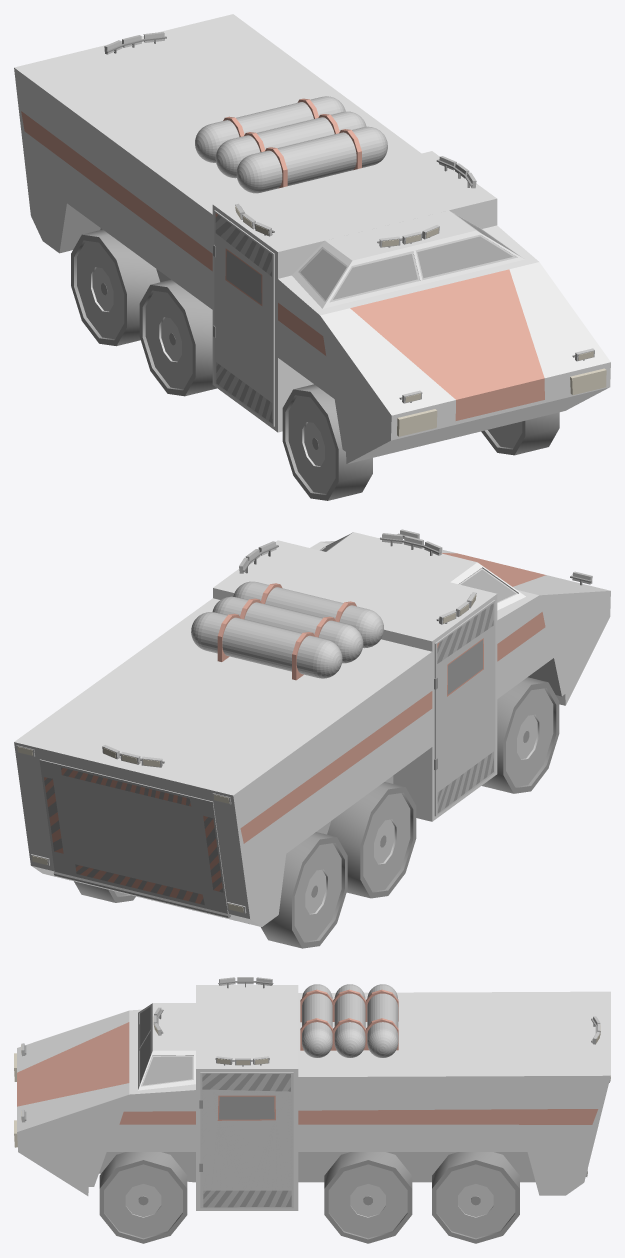
The model's file is kar.fbx.
3 views of the same model, one above another, from view 1: azimuth 30°, elevation 25°; view 2: azimuth 150°, elevation 25°; view 3: azimuth 270°, elevation 25° (orthographic). The views are drawn at different scales.
Parts seen in each view (by area): view 1: Cylinder_1, Boole_2_4, Boole_2_5, Boole_2_6, Boole_2_3; view 2: Cylinder_1, Boole_2_5, Boole_2_4, Boole_2_6, Boole_2; view 3: Cylinder_1, Boole_2_3, Boole_2_2, Boole_2.
Part boxes in pixels (x1,y1,x2,y2): Cylinder_1: (14,14,610,464); Boole_2_4: (71,229,159,346); Boole_2_5: (139,279,216,396); Boole_2_6: (282,384,372,500); Boole_2_3: (481,412,559,455); Cylinder_1: (14,529,610,926); Boole_2_5: (327,782,416,898); Boole_2_4: (261,832,347,948); Boole_2_6: (482,677,559,793); Boole_2: (74,881,135,902); Cylinder_1: (14,977,610,1210); Boole_2_3: (99,1152,187,1243); Boole_2_2: (324,1152,412,1243); Boole_2: (432,1152,519,1243).
Bounding box in the file's own units: 305 × 328 × 900.
